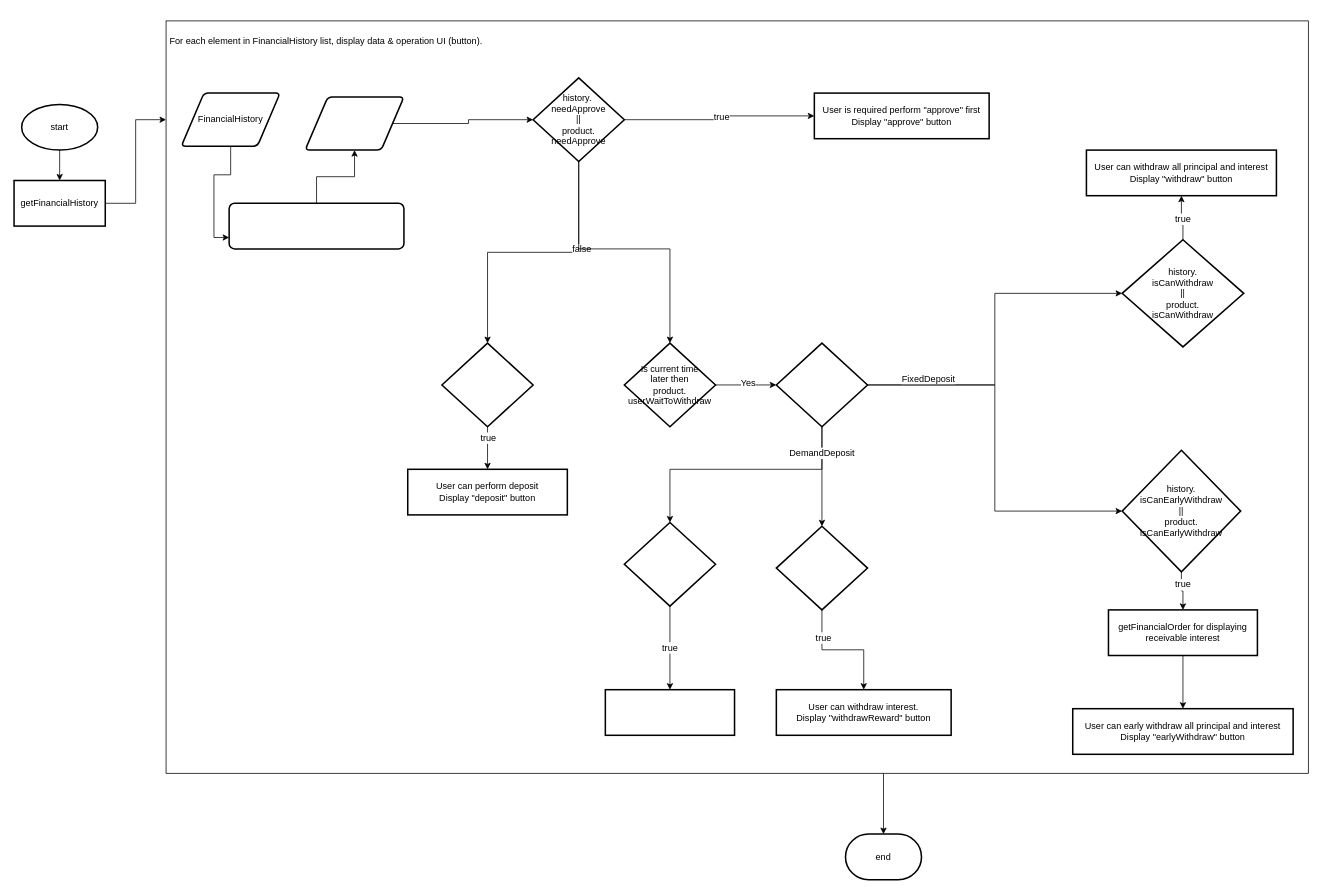
Image size: 1322x893. Some labels were removed from this diagram. Each missing label, with the centre of its shape:
FinancialProduct: pixel 354 123
Get product from history.products by history.productUuid: pixel 316 225
history. isCanWithdarw || product. isCanWithdraw: pixel 669 563
history. isCanWithdrawReward || product. isCanWithdrawReward: pixel 821 567
jhistory. isCanDeposit || product. isCanDeposit: pixel 487 384
product.kind: pixel 821 384
User can withdraw principal Display "withdraw" button: pixel 669 712
